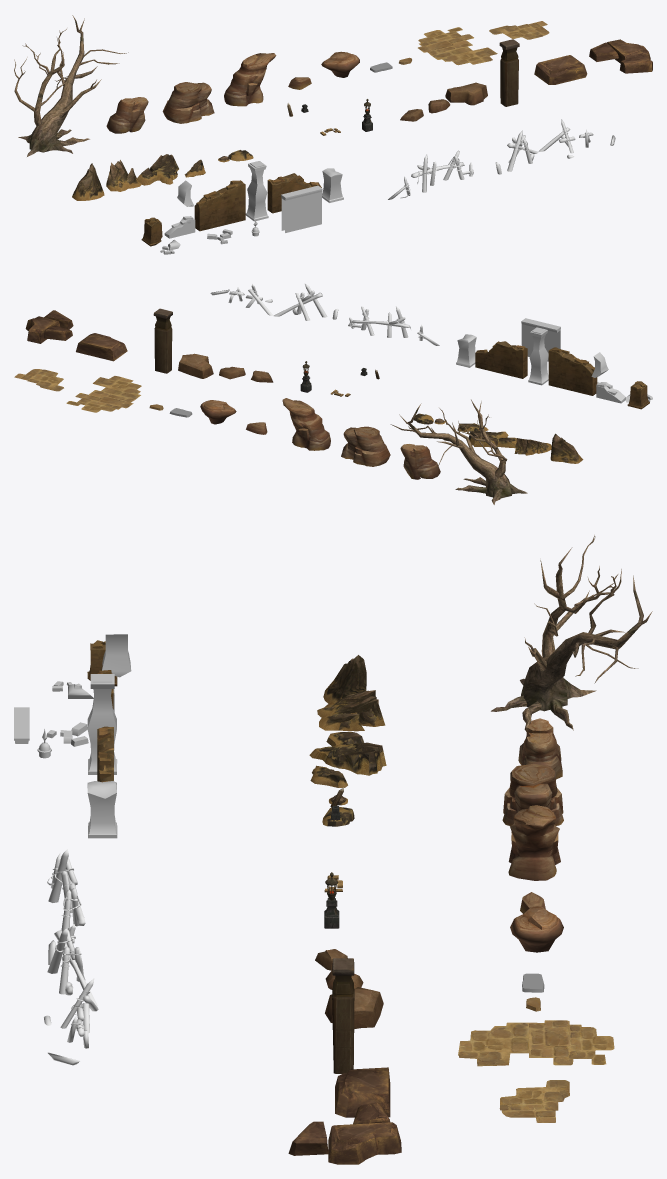
File: d_desert_01.FBX
3 views of the same model, one above another, from view 1: azimuth 30°, elevation 25°; view 2: azimuth 150°, elevation 25°; view 3: azimuth 270°, elevation 25° (orthographic). The views are drawn at different scales.
Visible parts, largest first — view 1: tree01, xkez_jz_poqiang_003, SMYJ_st_008, SMYJ_st_003, SMYJ_st_002, xkez_jz_poqiang_010, smyj_wj_017, smyj_wj_012, smyj_wj_016, SMYJ_st_001, xkez_jz_poqiang_002, xkez_jz_poqiang_001 (+12 smaller); view 2: tree01, xkez_jz_poqiang_003, SMYJ_st_008, SMYJ_st_003, SMYJ_st_002, xkez_jz_poqiang_001, smyj_wj_017, smyj_wj_012, SMYJ_st_001, smyj_wj_016, xkez_jz_poqiang_002, xkez_jz_poqiang_010 (+12 smaller); view 3: tree01, SMYJ_st_008, smyj_wj_017, SMYJ_st_003, SMYJ_st_002, smyj_wj_012, smyj_wj_016, SMYJ_ST_shanshi_001_002, SMYJ_ST_shanshi_001_006, SMYJ_st_009, xkez_jz_poqiang_002, SMYJ_st_004 (+9 smaller).
Part boxes in pixels (x1,y1,x2,y2): tree01: (14, 15, 128, 156); xkez_jz_poqiang_003: (194, 180, 245, 231); SMYJ_st_008: (418, 27, 497, 65); SMYJ_st_003: (224, 53, 276, 106); SMYJ_st_002: (162, 82, 214, 123); xkez_jz_poqiang_010: (281, 185, 322, 232); smyj_wj_017: (589, 39, 652, 73); smyj_wj_012: (499, 39, 519, 106); smyj_wj_016: (534, 55, 587, 84); SMYJ_st_001: (106, 97, 148, 133); xkez_jz_poqiang_002: (245, 161, 268, 221); xkez_jz_poqiang_001: (267, 173, 321, 213); tree01: (390, 399, 527, 504); xkez_jz_poqiang_003: (548, 347, 597, 395); SMYJ_st_008: (66, 376, 141, 412); SMYJ_st_003: (282, 398, 330, 450); SMYJ_st_002: (341, 426, 390, 466); xkez_jz_poqiang_001: (475, 341, 527, 378); smyj_wj_017: (25, 310, 73, 343); smyj_wj_012: (153, 308, 172, 373); SMYJ_st_001: (400, 444, 440, 479); smyj_wj_016: (76, 333, 127, 361); xkez_jz_poqiang_002: (528, 327, 548, 385); xkez_jz_poqiang_010: (521, 318, 560, 361); tree01: (491, 535, 652, 731); SMYJ_st_008: (458, 1020, 614, 1066); smyj_wj_017: (288, 1102, 401, 1164); SMYJ_st_003: (508, 805, 560, 880); SMYJ_st_002: (502, 764, 563, 832); smyj_wj_012: (332, 958, 354, 1073); smyj_wj_016: (335, 1067, 390, 1117); SMYJ_ST_shanshi_001_002: (309, 731, 386, 775); SMYJ_ST_shanshi_001_006: (317, 690, 385, 731); SMYJ_st_009: (499, 1080, 569, 1122); xkez_jz_poqiang_002: (87, 674, 117, 774); SMYJ_st_004: (510, 906, 563, 952).
Size of the model in its own units: 7208 by 1369 by 4021.
